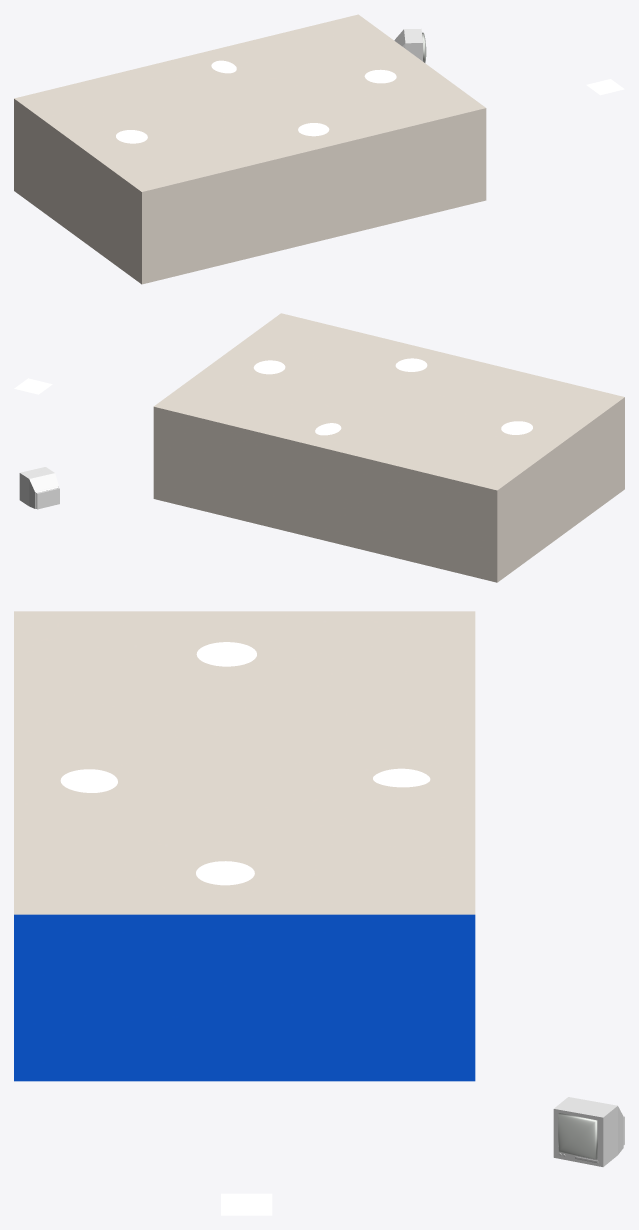
File: soba.gltf
3 views of the same model, one above another, from view 1: azimuth 30°, elevation 25°; view 2: azimuth 150°, elevation 25°; view 3: azimuth 270°, elevation 25° (orthographic). The views are drawn at different scales.
Parts seen in each view (by area): view 1: Cube.005, Cube.004, Cube.002, box; view 2: Cube.005, Cube.003, Cube.002, box; view 3: Cube.005, Cube.001, box, screen, Sphere.003, Plane, Sphere.004, Sphere.002, Sphere.001.
Part boxes in pixels (x1,y1,x2,y2): Cube.005: (14,14,485,191); Cube.004: (142,108,486,284); Cube.002: (14,99,141,284); box: (394,28,422,61); Cube.005: (154,313,624,490); Cube.003: (153,407,497,582); Cube.002: (497,397,624,582); box: (19,467,59,509); Cube.005: (14,611,475,914); Cube.001: (14,914,475,1081); box: (553,1097,624,1166); screen: (558,1113,597,1159); Sphere.003: (196,642,256,666); Plane: (221,1193,272,1215); Sphere.004: (196,861,254,885); Sphere.002: (60,769,117,792); Sphere.001: (373,768,430,787).
Size of the model in its own units: 43.76 by 7.28 by 23.75.
5 materials, 3 textured.
